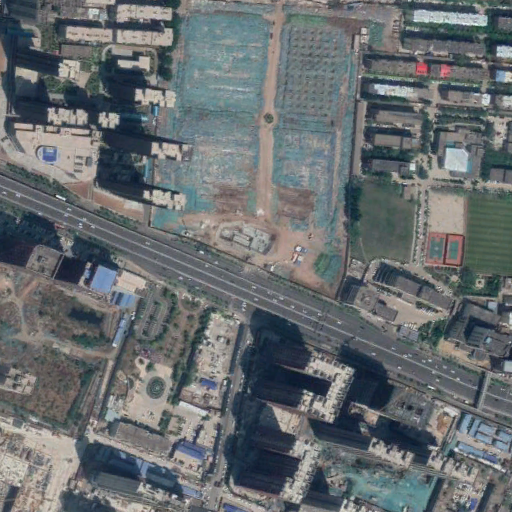cw: (151, 9, 357, 305), (308, 452, 443, 512)
